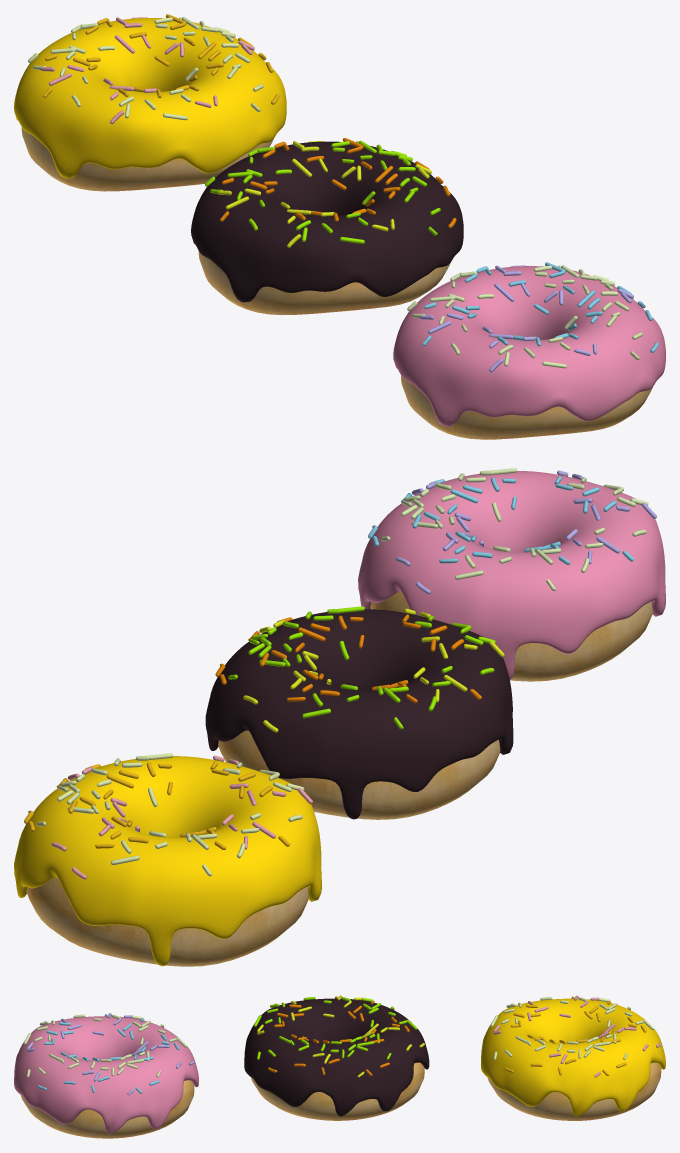
Rendered from Donut-gold.glb.
The picture shows the model from 3 angles, top to bottom: view 1: azimuth 30°, elevation 25°; view 2: azimuth 150°, elevation 25°; view 3: azimuth 270°, elevation 25°; orthographic projection. The views are drawn at different scales.
Visible parts, largest first — view 1: Donut.007, Donut.004, Donut.001, Donut.002, Donut.003, Donut.008, Donut.006, Donut.005, Donut; view 2: Donut.001, Donut.004, Donut.007, Donut, Donut.005, Donut.003, Donut.008, Donut.002, Donut.006; view 3: Donut.007, Donut.001, Donut.004, Donut.008, Donut.006, Donut.003, Donut.002, Donut.005, Donut.
Part boxes in pixels (left/top/right/bottom): Donut.007: left=393, top=266, right=665, bottom=426; Donut.004: left=191, top=141, right=463, bottom=302; Donut.001: left=14, top=18, right=286, bottom=178; Donut.002: left=28, top=14, right=279, bottom=124; Donut.003: left=205, top=138, right=456, bottom=247; Donut.008: left=407, top=262, right=658, bottom=372; Donut.006: left=401, top=376, right=652, bottom=439; Donut.005: left=198, top=251, right=450, bottom=315; Donut: left=21, top=127, right=273, bottom=191; Donut.001: left=14, top=756, right=321, bottom=966; Donut.004: left=205, top=609, right=513, bottom=819; Donut.007: left=358, top=471, right=665, bottom=679; Donut: left=26, top=877, right=308, bottom=966; Donut.005: left=218, top=730, right=500, bottom=819; Donut.003: left=215, top=606, right=504, bottom=732; Donut.008: left=368, top=468, right=656, bottom=594; Donut.002: left=24, top=753, right=312, bottom=879; Donut.006: left=370, top=592, right=652, bottom=681; Donut.007: left=14, top=1016, right=198, bottom=1134; Donut.001: left=481, top=998, right=665, bottom=1116; Donut.004: left=244, top=998, right=429, bottom=1116; Donut.008: left=23, top=1013, right=194, bottom=1095; Donut.006: left=20, top=1080, right=194, bottom=1138; Donut.003: left=254, top=995, right=424, bottom=1077; Donut.002: left=490, top=995, right=661, bottom=1077; Donut.005: left=251, top=1062, right=424, bottom=1120; Donut: left=487, top=1062, right=661, bottom=1120.
Size of the model in its own units: 0.3628 by 0.1525 by 1.1.
17 materials, 3 textured.
